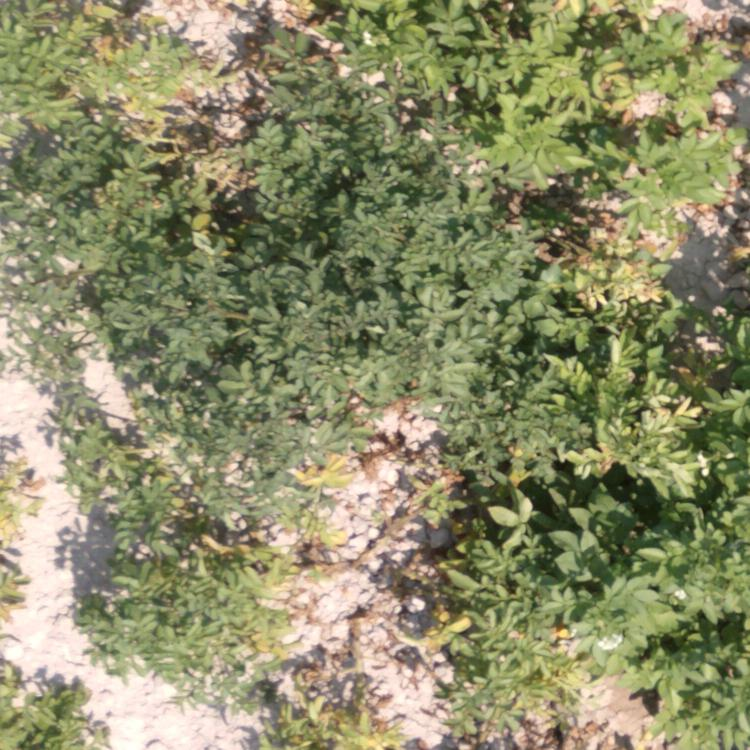healthy: (580, 339, 749, 750), (112, 316, 401, 433), (242, 183, 503, 312), (257, 39, 411, 178), (414, 325, 586, 417), (4, 242, 213, 313)
stressed: (418, 1, 728, 187), (1, 1, 233, 240), (408, 421, 570, 750), (81, 440, 273, 687), (511, 190, 717, 330), (1, 434, 33, 745), (283, 666, 400, 750), (284, 432, 348, 571), (29, 666, 108, 747)
